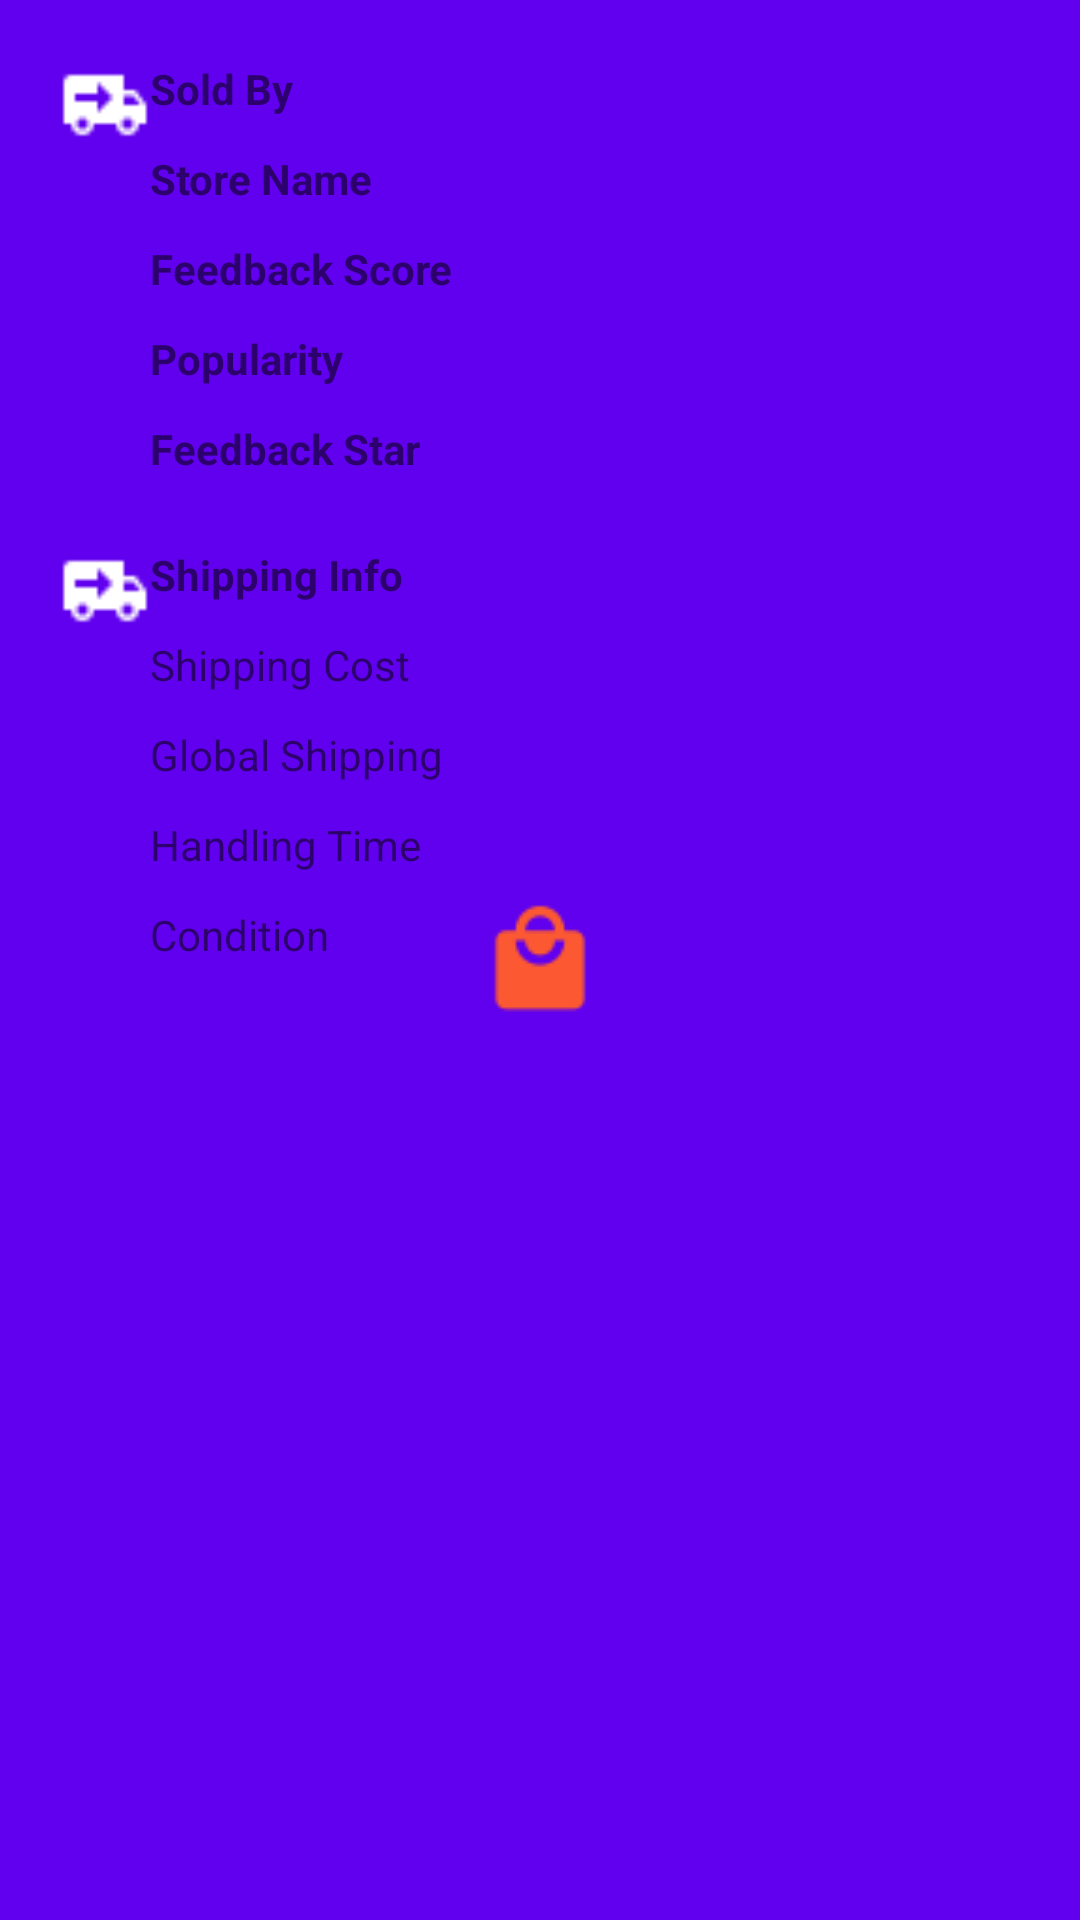

Locate icon controls on the screen. Image size 1080x1920, boxes as (x1, y1, x2, y2).
truck delivery: (62, 73, 148, 136), (62, 559, 148, 622)
